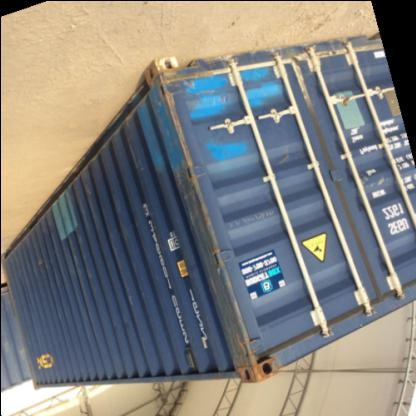Damage: (146, 65, 196, 186), (182, 188, 230, 300), (218, 300, 274, 388), (273, 52, 323, 116)
